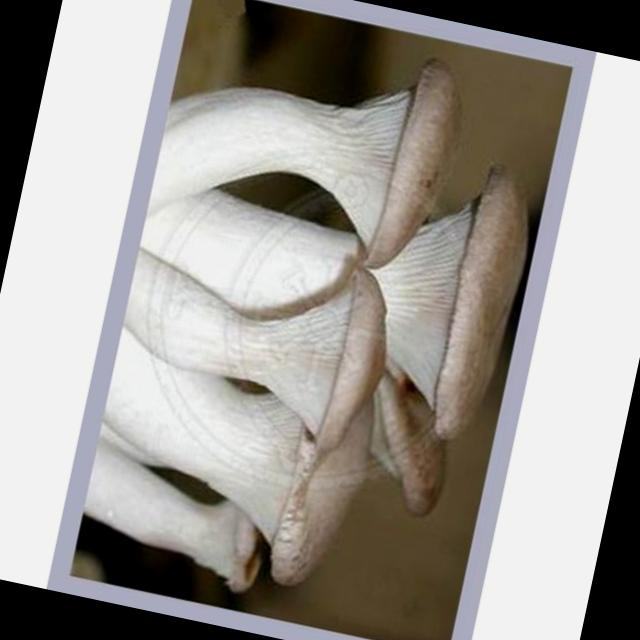Pleurotus eryngii: (110, 101, 538, 444), (142, 8, 468, 280), (80, 360, 380, 594), (111, 220, 407, 456), (68, 447, 280, 592)
